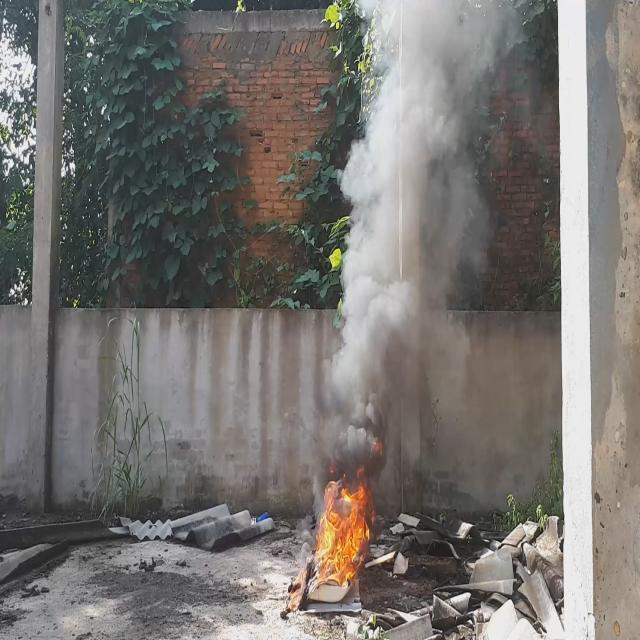Fire: (316, 467, 379, 582)
Smoke: (320, 0, 496, 523)
